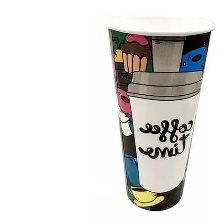paper_cup: (100, 8, 222, 214)
